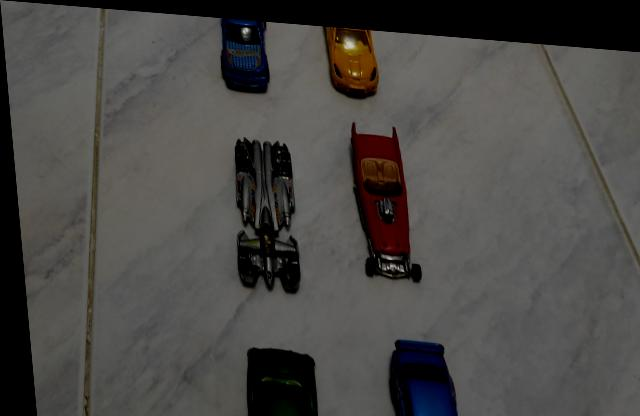03_V8: (346, 118, 418, 277)
04_MERZEDES: (219, 14, 271, 92)
05_DC121: (231, 135, 298, 292)
06_MASERATI: (239, 344, 312, 416)
07_RHLTURBO: (322, 21, 378, 94)
